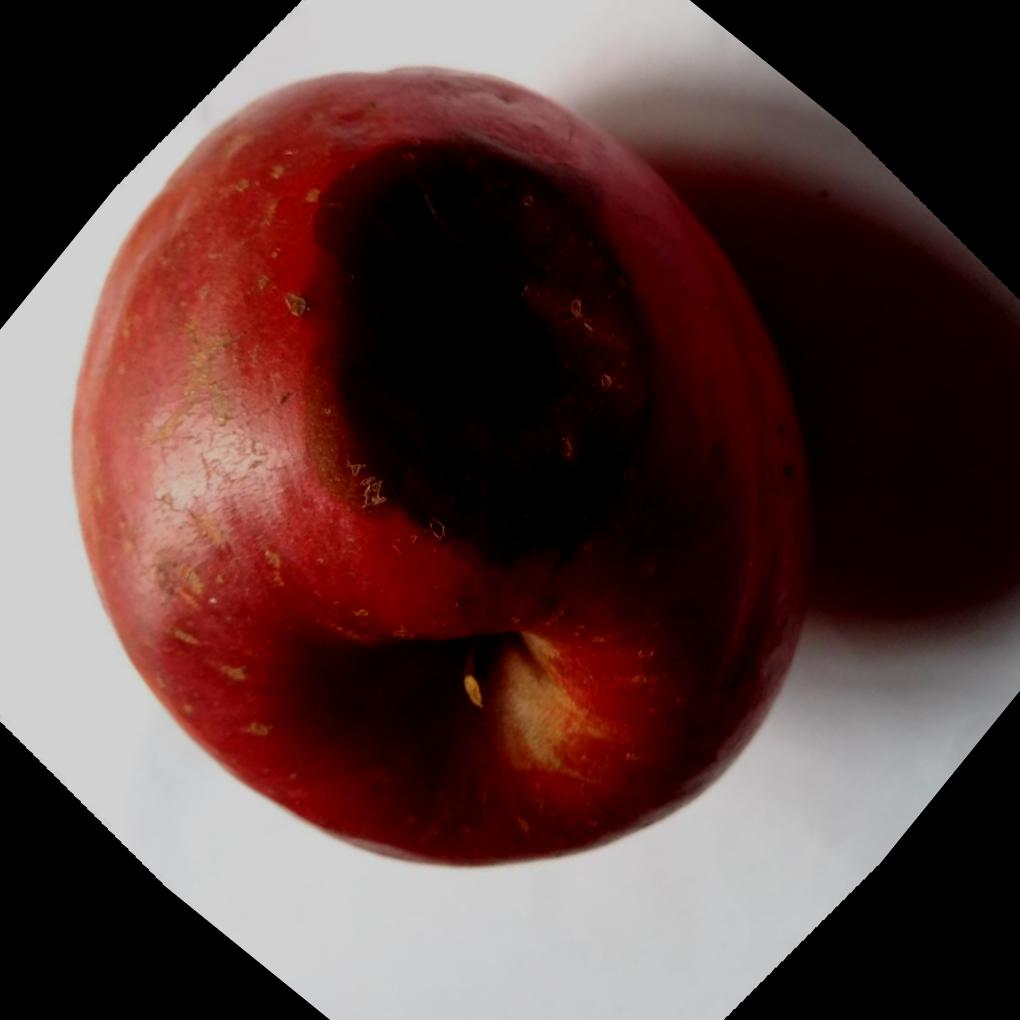FreshOrange: (68, 65, 822, 870)
